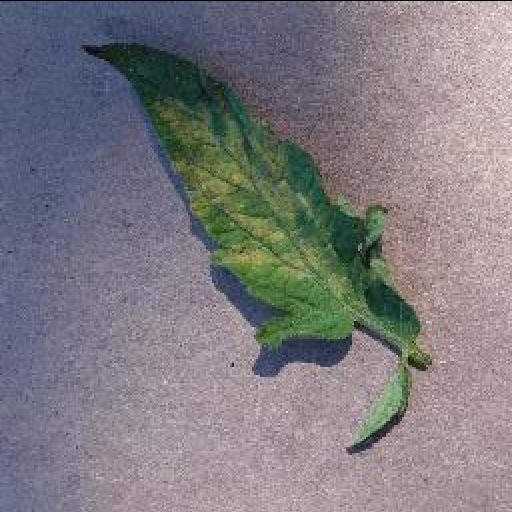disease_tomato: (81, 42, 423, 344)
